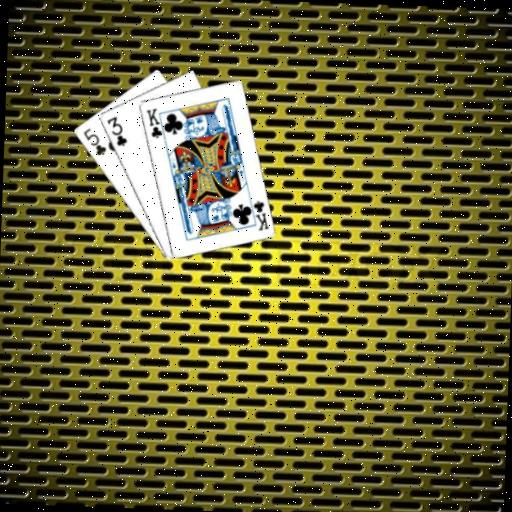3C: (102, 113, 129, 147)
5C: (79, 125, 108, 157)
KC: (141, 105, 167, 141), (244, 196, 270, 232)
